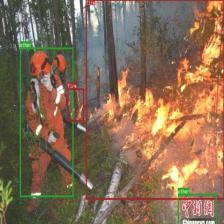fire: (86, 0, 224, 200), (67, 88, 84, 121)
